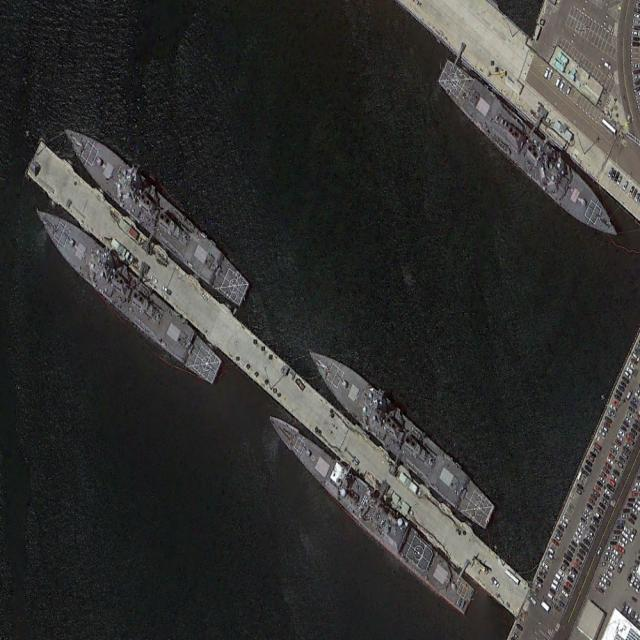Cruiser: (259, 401, 477, 617)
Destroyer: (56, 107, 253, 313), (300, 332, 500, 534), (27, 191, 224, 392), (434, 51, 626, 252)
